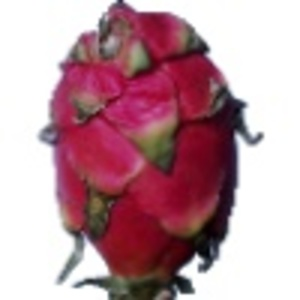pitaia: (37, 1, 263, 300)
